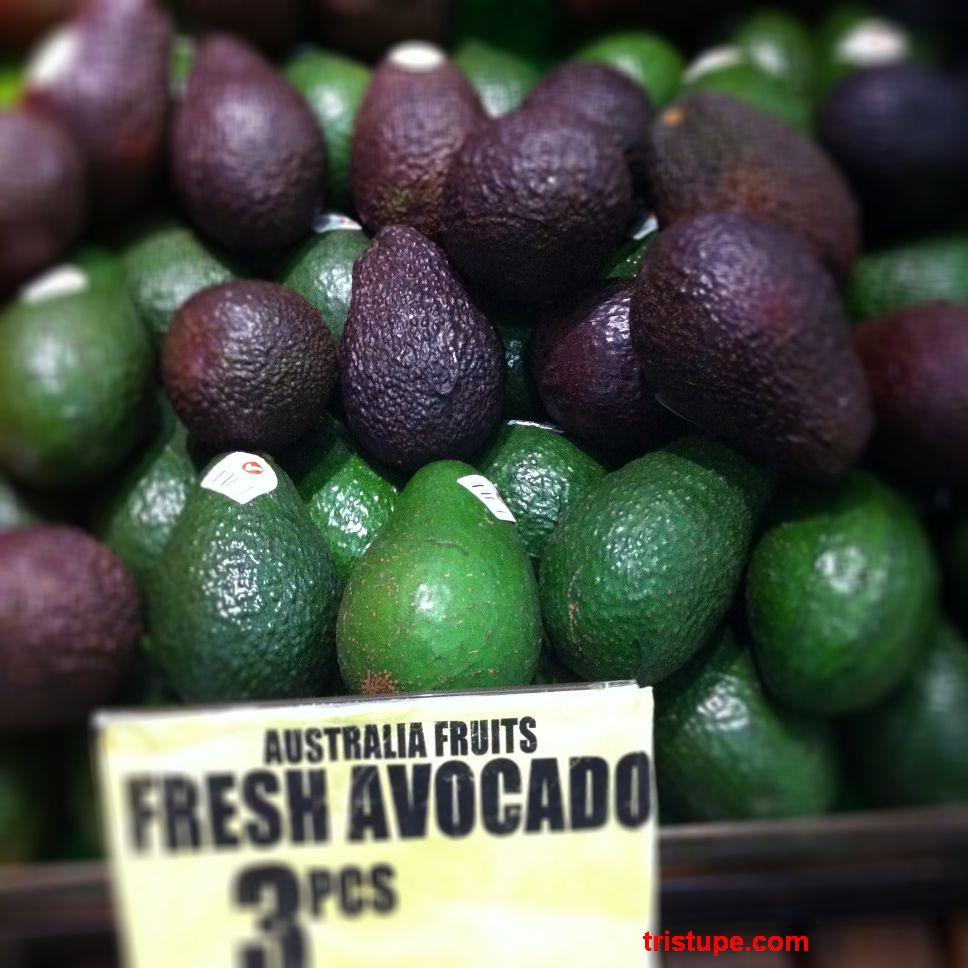ripe: (630, 210, 873, 478), (337, 223, 507, 467), (641, 93, 859, 277), (169, 31, 327, 276), (444, 106, 632, 292), (160, 280, 338, 452), (348, 38, 493, 241), (526, 277, 667, 453), (117, 1, 171, 198)
unripe: (540, 435, 757, 692), (147, 451, 342, 703), (334, 460, 541, 697), (747, 467, 939, 720), (1, 246, 156, 502)
